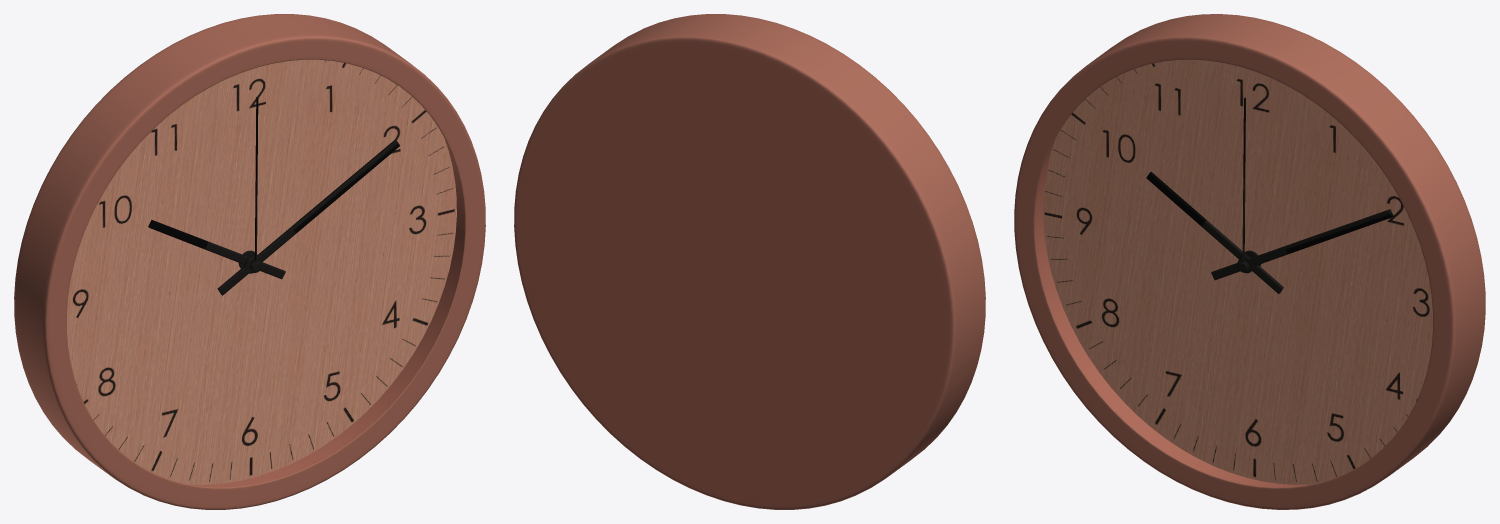
File: clock_B07B8TGC99.glb
3 views of the same model, side by side, from view 1: azimuth 30°, elevation 25°; view 2: azimuth 150°, elevation 25°; view 3: azimuth 330°, elevation 25° (orthographic).
Parts seen in each view (by area): view 1: RootNode; view 2: RootNode; view 3: RootNode.
Boxes of the visible parts, x1,y1,x2,y2 form: RootNode: [14, 14, 485, 509]; RootNode: [514, 14, 985, 509]; RootNode: [1014, 14, 1485, 509].
Size of the model in its own units: 0.3134 by 0.3134 by 0.0403.
Materials: 1 (1 with a texture image).
